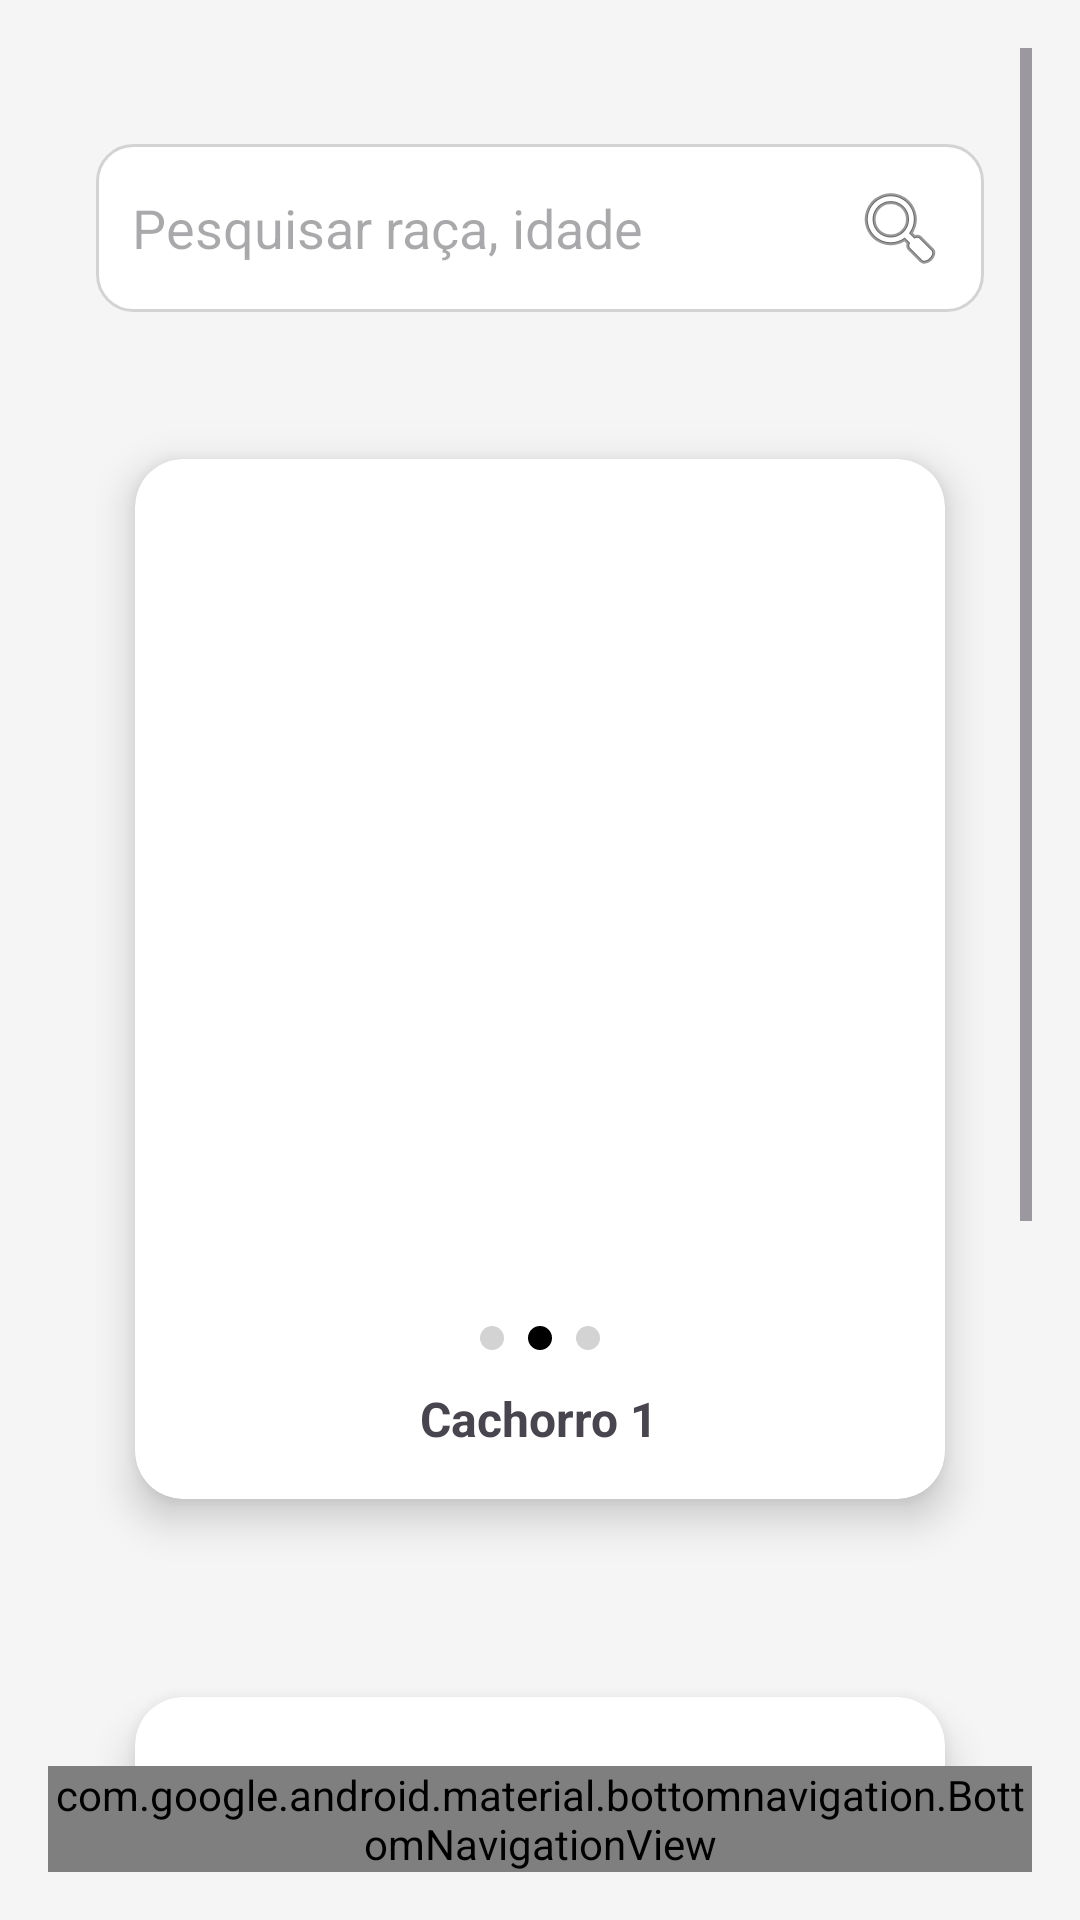

Point at icon controls on the screen. Image size 1080px×1920px, points as point (x, y).
dot: point (540, 1338)
